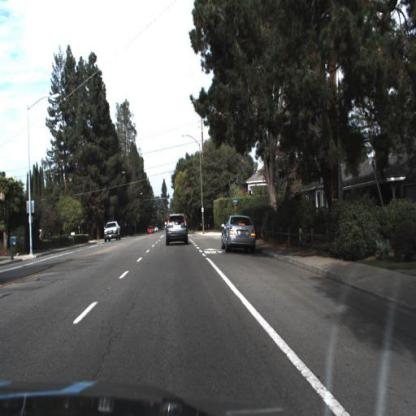car: (219, 209, 260, 258), (159, 210, 193, 259), (103, 218, 124, 247)
